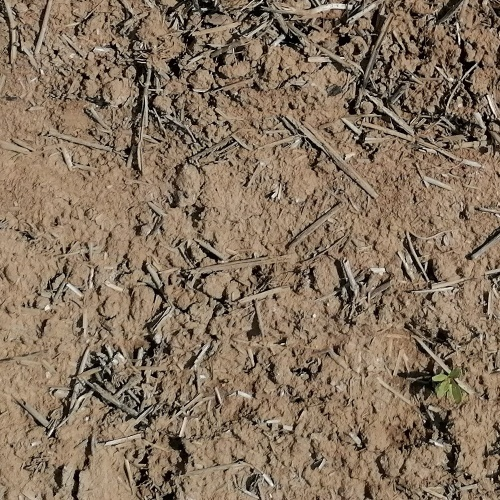beet: (431, 362, 463, 407)
